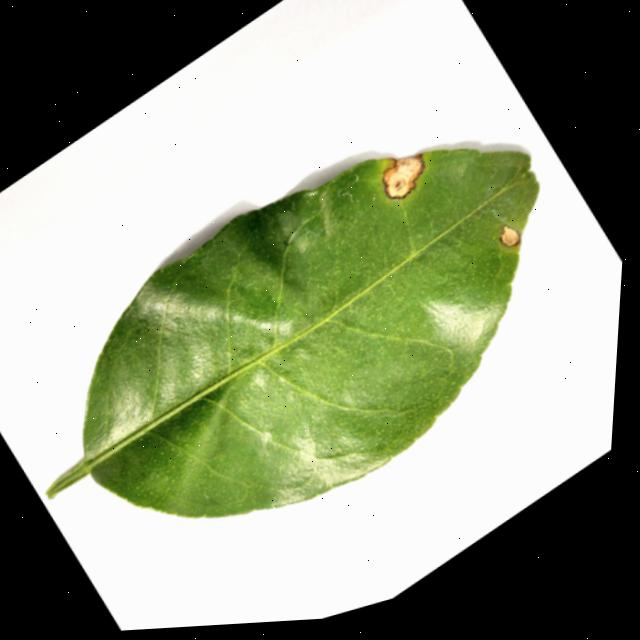antracnose: (46, 148, 537, 516), (381, 153, 423, 198), (498, 224, 519, 245)
